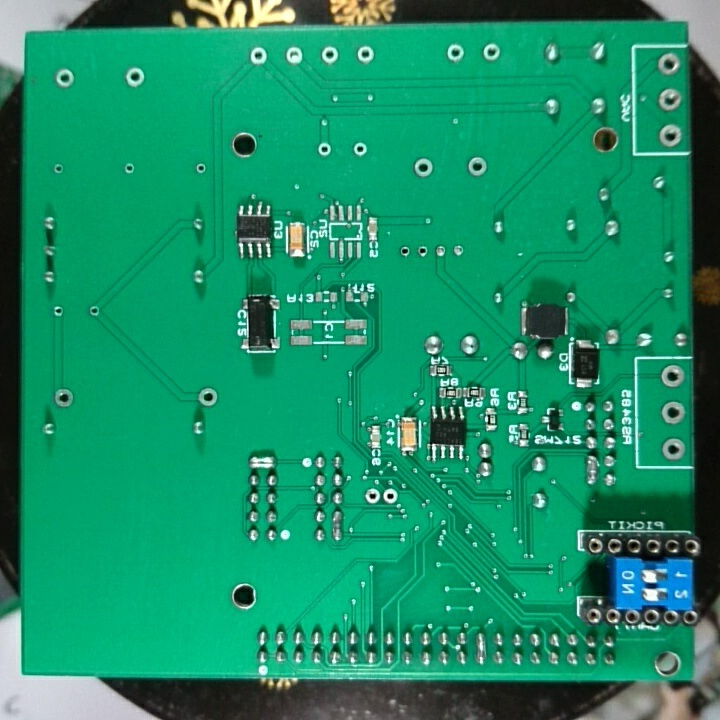F: (656, 119, 685, 148), (657, 435, 687, 460), (659, 398, 688, 423), (122, 66, 149, 92), (658, 364, 686, 389), (409, 156, 437, 181), (657, 86, 682, 113), (194, 384, 222, 408), (657, 52, 682, 78), (53, 66, 78, 92), (465, 154, 489, 180), (246, 45, 271, 69), (51, 386, 77, 409), (444, 42, 468, 66), (354, 43, 379, 66), (282, 43, 305, 68), (319, 44, 341, 67), (479, 42, 503, 63), (381, 484, 401, 509), (349, 139, 371, 161), (361, 486, 381, 507), (431, 240, 449, 262), (450, 240, 468, 262), (314, 140, 335, 158), (415, 240, 430, 263), (85, 302, 103, 320), (51, 159, 68, 178), (397, 243, 414, 262), (51, 303, 67, 321), (122, 159, 137, 178), (192, 160, 208, 177)
P: (582, 452, 601, 487), (246, 452, 279, 471), (328, 509, 345, 543), (474, 630, 489, 668)
